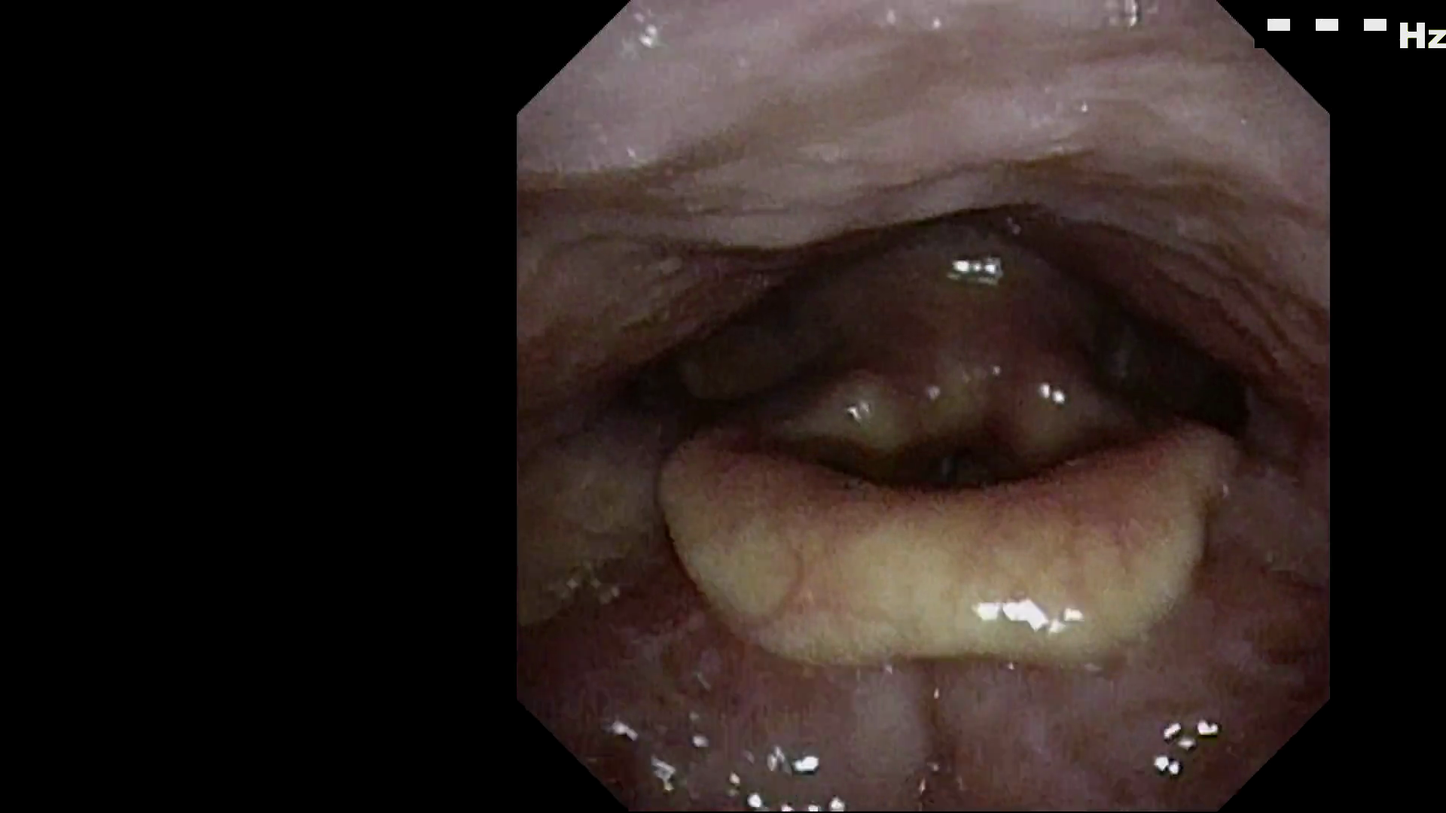epiglottis: (659, 448, 1211, 657)
